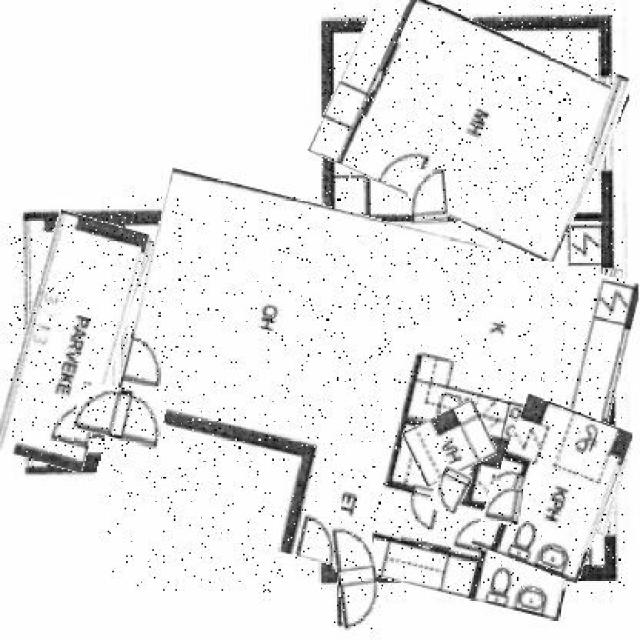door: (74, 388, 166, 446), (334, 523, 378, 629), (408, 170, 448, 222), (431, 468, 469, 515), (486, 486, 523, 525)
window: (97, 235, 143, 392), (591, 75, 623, 171), (594, 443, 626, 535), (597, 268, 618, 357)
zone: (108, 195, 624, 594), (321, 6, 617, 240), (9, 214, 132, 469), (483, 401, 620, 577), (406, 406, 494, 479)
